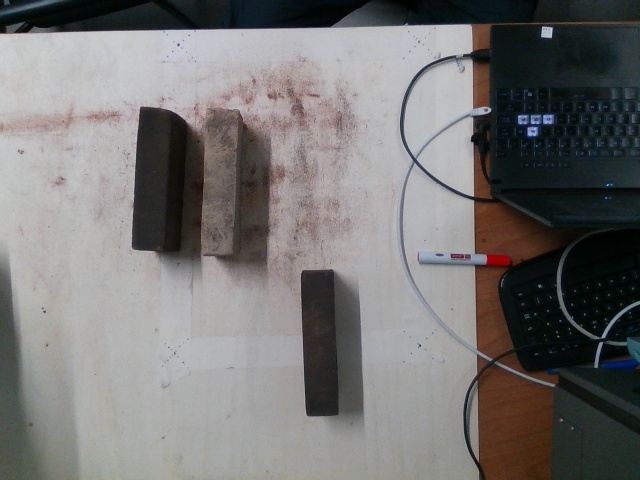brick-side: (199, 110, 240, 252), (300, 274, 335, 415), (133, 108, 166, 250)
